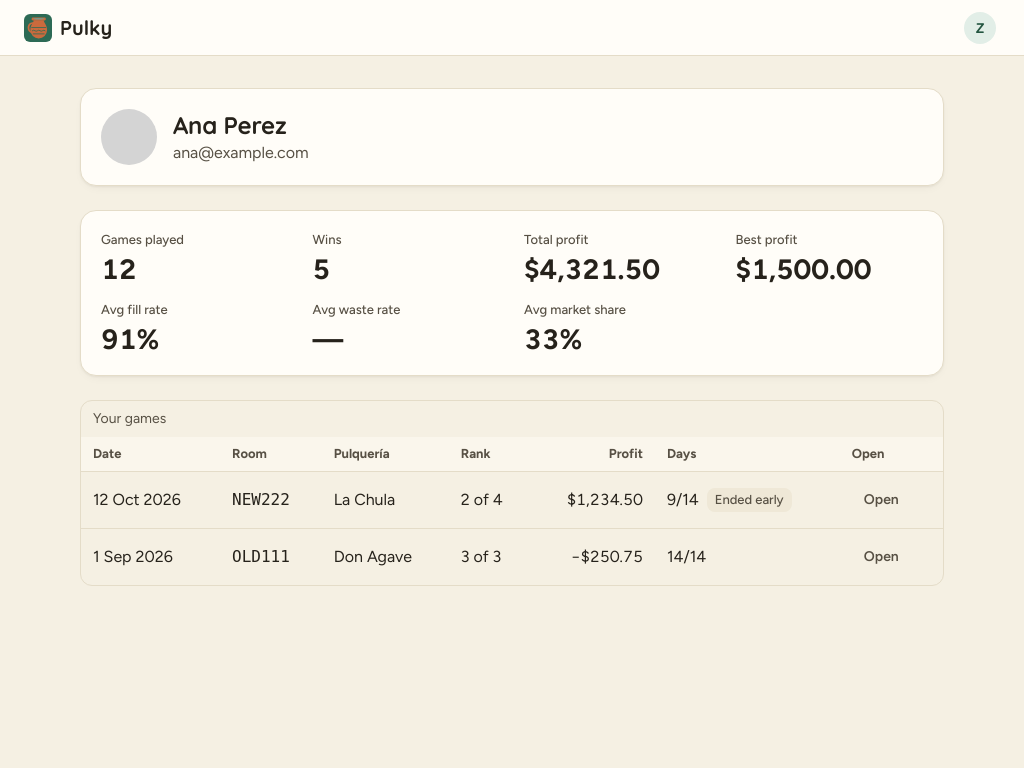
Test: /profile › follows an Open link to the game detail
The width and height of the screenshot is (1024, 768).
Click the link "Open" in the row of "12 Oct 2026".
click(881, 500)  # box [864, 491, 899, 508]
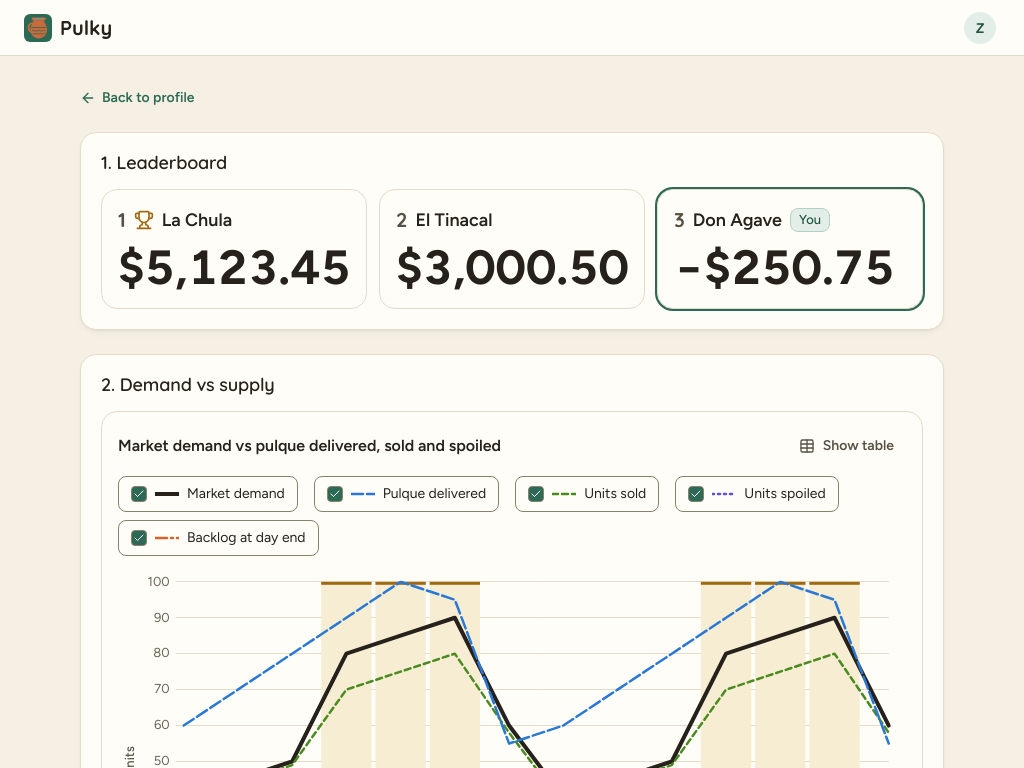
Expected: the heading "1. Leaderboard" is shown, [101, 149, 227, 177]
Expected: the link "Back to profile" is shown, [80, 89, 194, 106]
